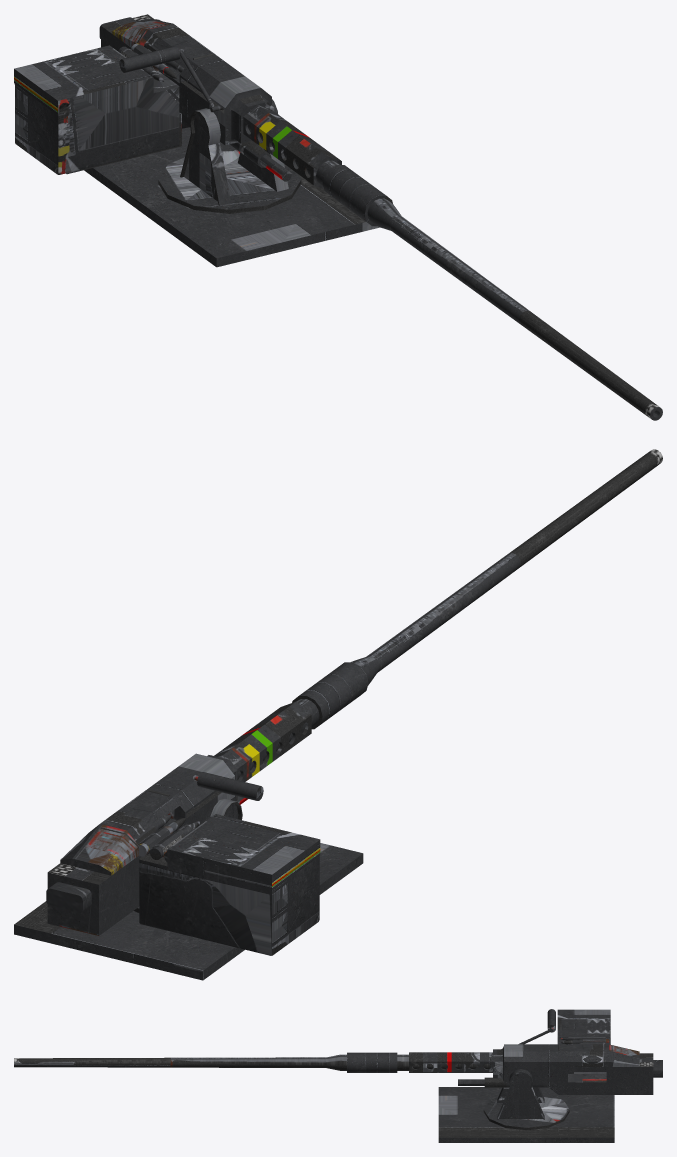
The model's file is 12.7 fiktif ani.fbx.
3 views of the same model, one above another, from view 1: azimuth 30°, elevation 25°; view 2: azimuth 150°, elevation 25°; view 3: azimuth 270°, elevation 25° (orthographic). The views are drawn at different scales.
Parts seen in each view (by area): view 1: ammo box, base, barrel, base yaw, body pitch, reload ammo, handle, ammo belt; view 2: ammo box, barrel, body pitch, base, reload ammo, ammo belt, handle; view 3: base, barrel, body pitch, base yaw, ammo box, reload ammo, ammo belt, handle.
Part boxes in pixels (x1,y1,x2,y2): ammo box: (14, 45, 179, 174); base: (84, 127, 379, 267); barrel: (243, 105, 662, 420); base yaw: (158, 99, 301, 213); body pitch: (66, 14, 291, 181); reload ammo: (142, 23, 214, 68); handle: (119, 46, 223, 112); ammo belt: (118, 41, 183, 81); ammo box: (139, 814, 320, 955); barrel: (214, 449, 662, 781); body pitch: (46, 753, 247, 935); base: (14, 843, 363, 980); reload ammo: (90, 789, 179, 838); ammo belt: (134, 814, 200, 861); handle: (193, 772, 263, 800); base: (438, 1087, 614, 1142); barrel: (14, 1052, 492, 1072); body pitch: (458, 1044, 662, 1094); base yaw: (483, 1069, 569, 1130); ammo box: (557, 1009, 610, 1044); reload ammo: (558, 1044, 609, 1066); ammo belt: (559, 1038, 608, 1044); handle: (518, 1009, 555, 1044).
Bounding box in the file's own units: 0.438 × 0.2499 × 1.76.
